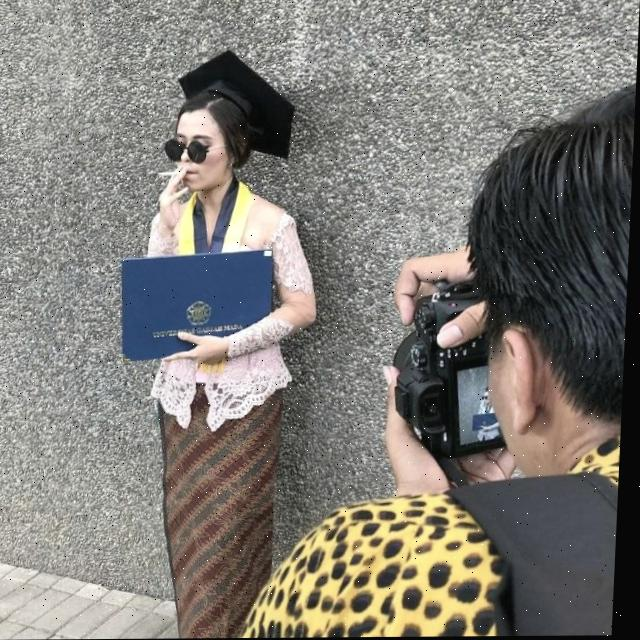cigarette: (158, 172, 181, 176)
